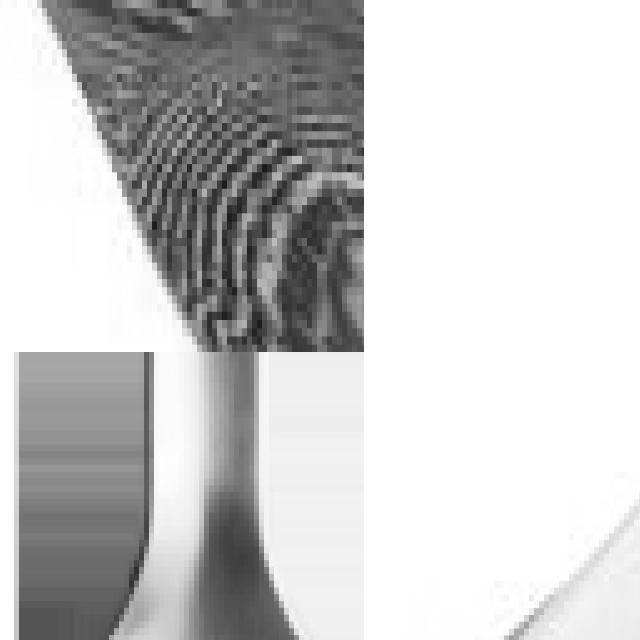forks: (0, 485, 364, 640)
spoons: (0, 0, 364, 352)
